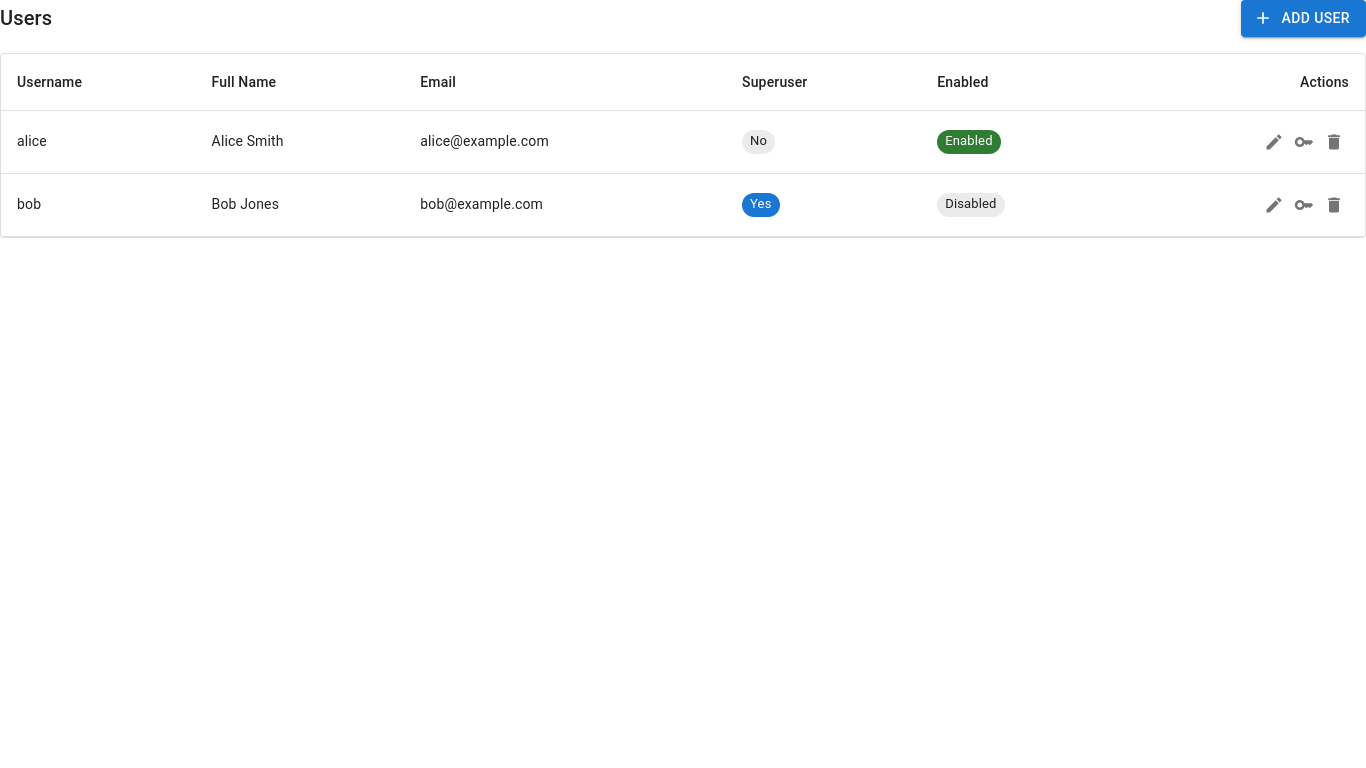
Test: AdminUsers › clicking delete icon opens delete confirmation dialog
Expected: the text "alice" is shown, [1,110,196,173]
Click the button named "delete alice" at (1334, 142), box [1319,126,1349,156]
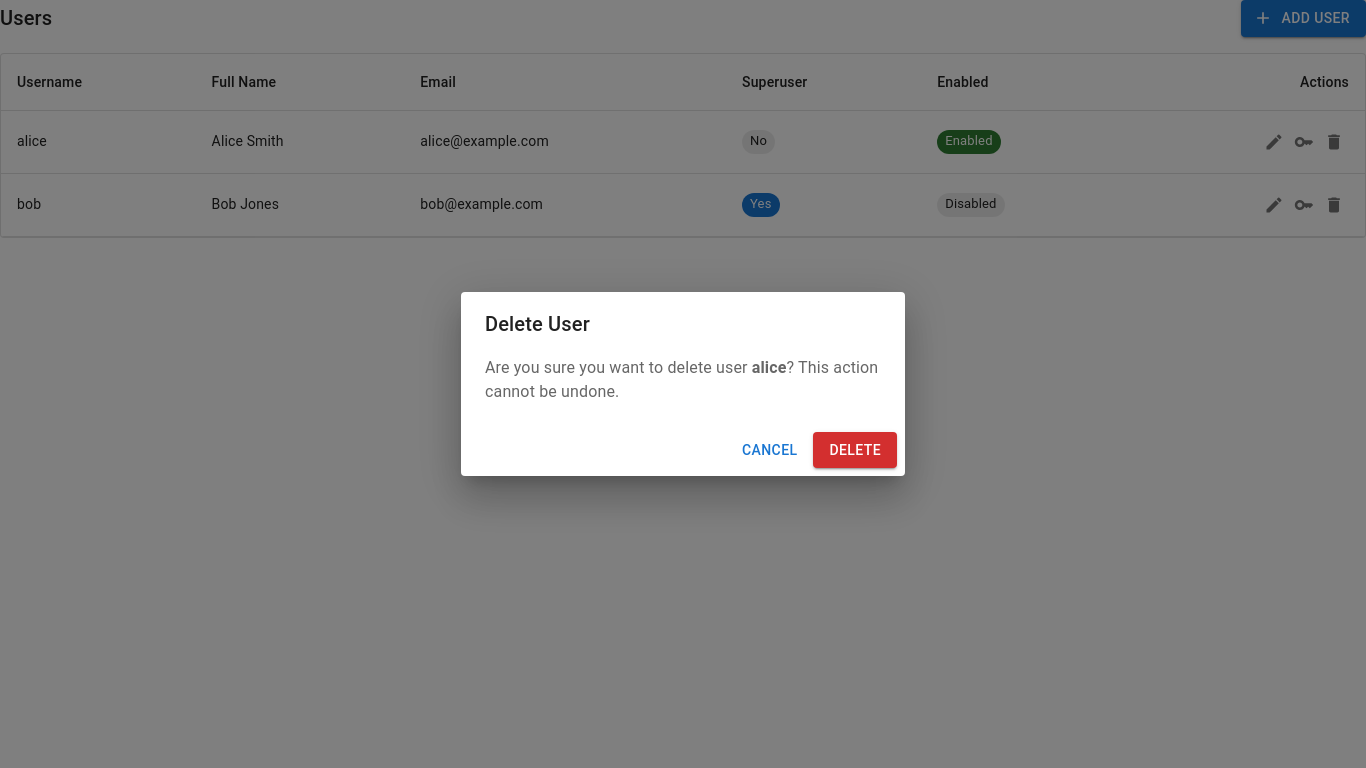
Expected: the dialog "Delete User" is shown, [461,292,905,476]
